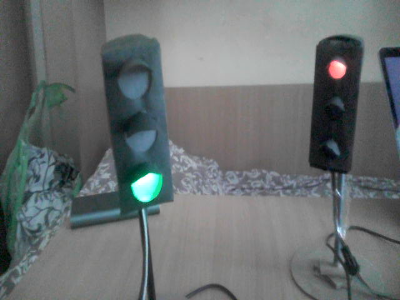trafficlight_green: (108, 50, 170, 206)
trafficlight_red: (314, 42, 359, 168)
